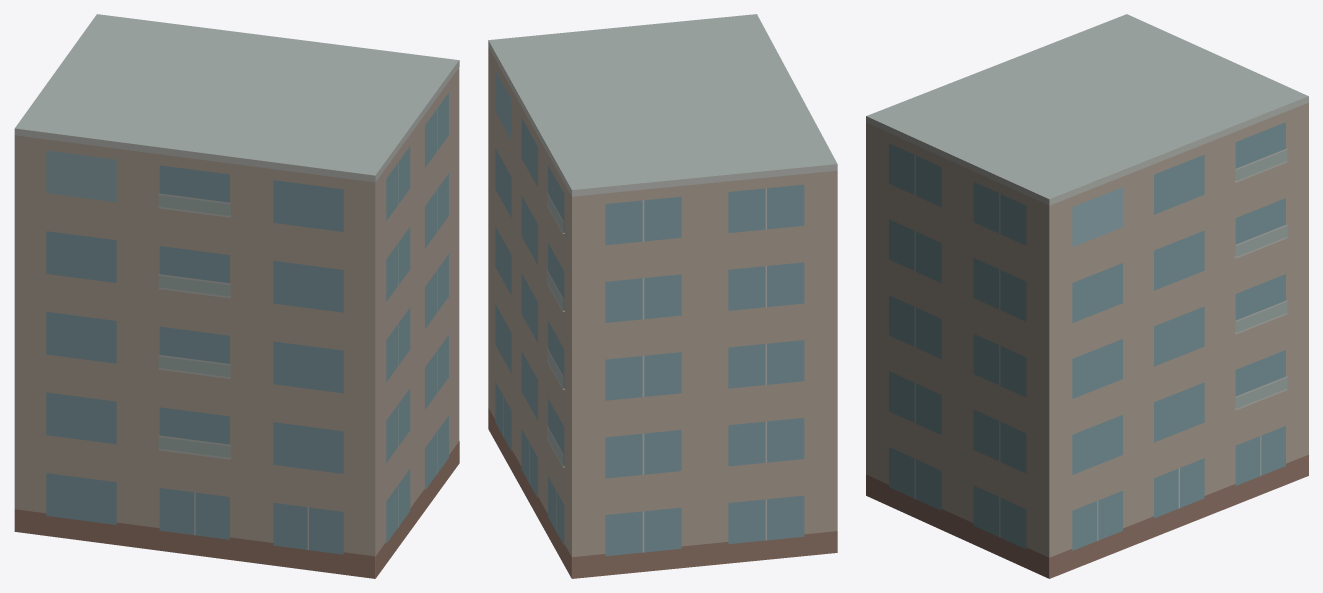
File: survey-upis-32718912.glb
3 renders of one model, left to right at view 1: azimuth 30°, elevation 25°; view 2: azimuth 150°, elevation 25°; view 3: azimuth 270°, elevation 25°, orthographic. The views are drawn at different scales.
Visible parts, largest first — view 1: survey-upis-32718912.tmp; view 2: survey-upis-32718912.tmp; view 3: survey-upis-32718912.tmp.
Boxes of the visible parts, left/top/right/bottom form: survey-upis-32718912.tmp: left=14, top=14, right=459, bottom=578; survey-upis-32718912.tmp: left=488, top=14, right=837, bottom=578; survey-upis-32718912.tmp: left=866, top=14, right=1308, bottom=578.
Bounding box in the file's own units: 15.19 × 14.5 × 15.34.
